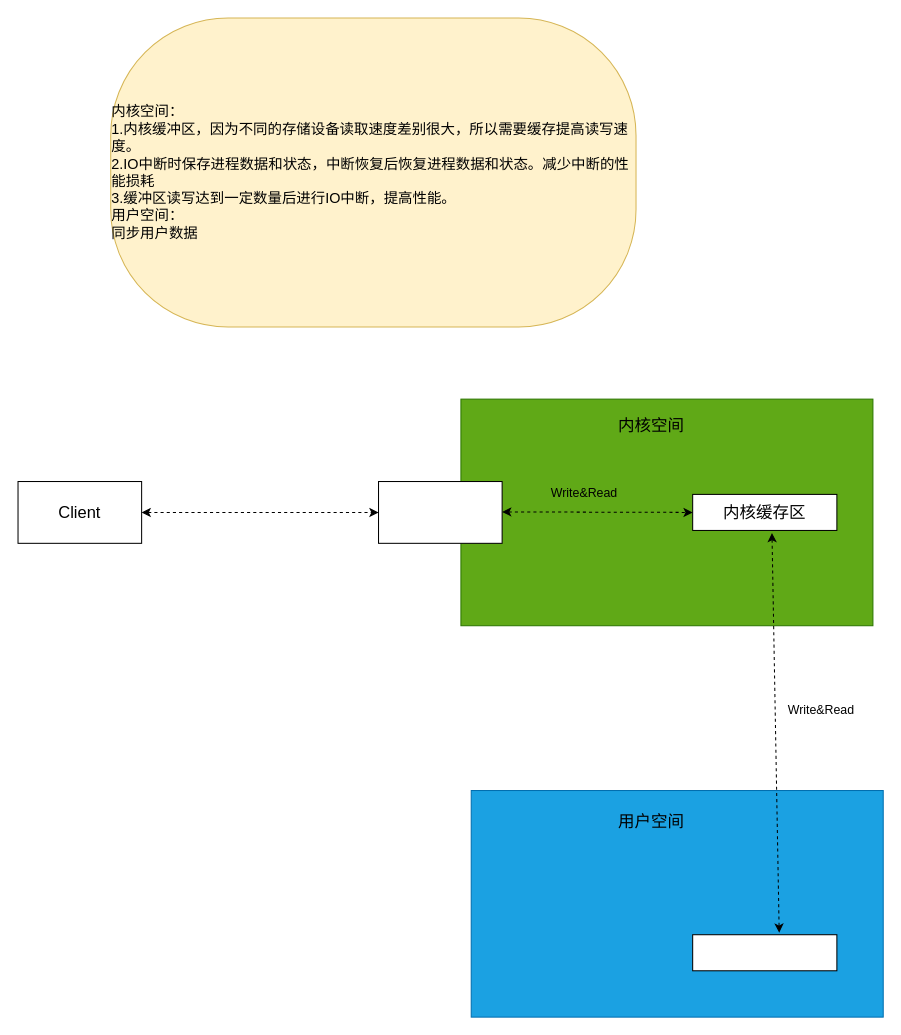
Some shapes in this 901 by 1035 pixel diagram are drawn without their labels. The box of each missing label's shape, as (x1, y1, x2, y2) in pixels:
用户缓冲区: (692, 934, 837, 971)
网卡: (377, 480, 502, 543)
